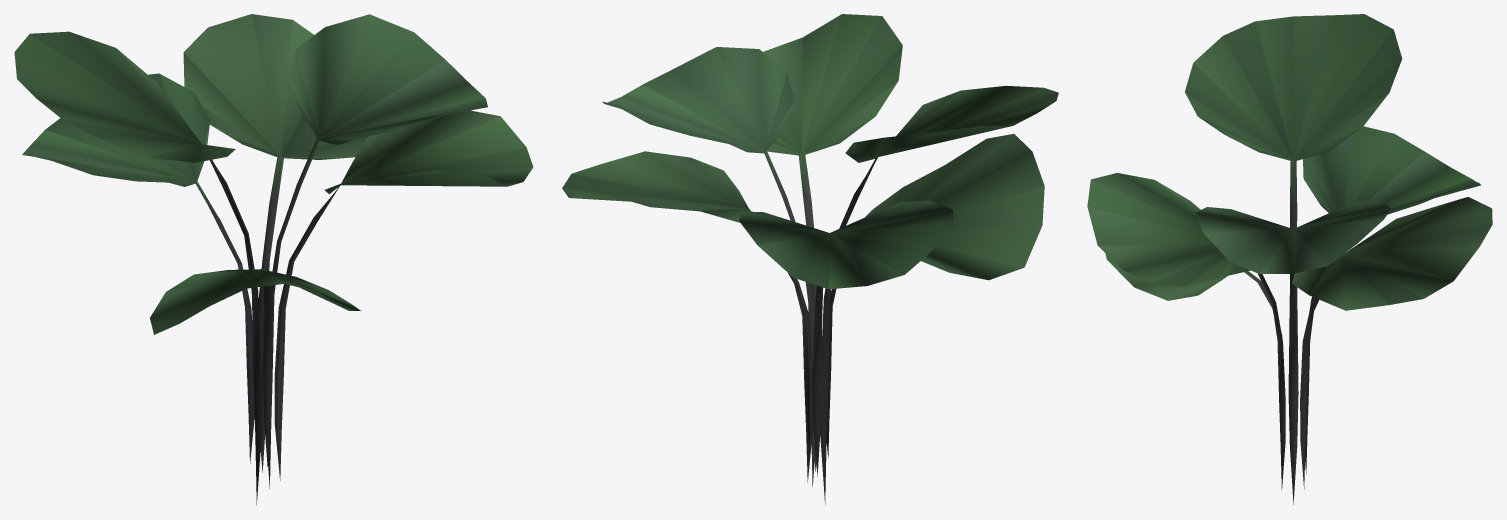
The model's file is plants-leafy-plants-round-leaf-plant_v1.fbx.
3 views of the same model, side by side, from view 1: azimuth 30°, elevation 25°; view 2: azimuth 150°, elevation 25°; view 3: azimuth 270°, elevation 25° (orthographic). The views are drawn at different scales.
Parts seen in each view (by area): view 1: Round Leaf Plant_v1; view 2: Round Leaf Plant_v1; view 3: Round Leaf Plant_v1.
Part boxes in pixels (x1,y1,x2,y2): Round Leaf Plant_v1: (14, 14, 533, 505); Round Leaf Plant_v1: (562, 14, 1058, 504); Round Leaf Plant_v1: (1087, 14, 1492, 504).
Size of the model in its own units: 0.4774 by 0.5 by 0.4508.
